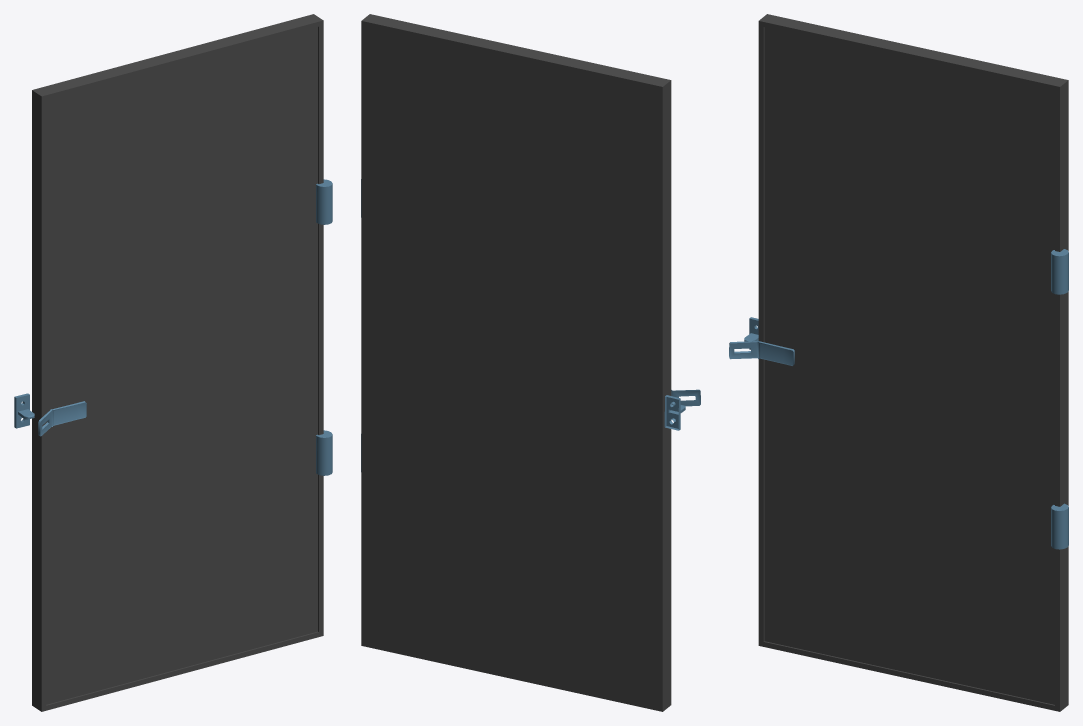
File: Door_Liberia.fbx
The picture shows the model from 3 angles, left to right: view 1: azimuth 30°, elevation 25°; view 2: azimuth 150°, elevation 25°; view 3: azimuth 330°, elevation 25°; orthographic projection.
Parts seen in each view (by area): view 1: Door001; view 2: Door001; view 3: Door001.
Part boxes in pixels (<box>): Door001: <box>14,14,332,711</box>; Door001: <box>361,14,700,711</box>; Door001: <box>729,14,1068,711</box>.
Size of the model in its own units: 46.28 by 86.61 by 7.75.
